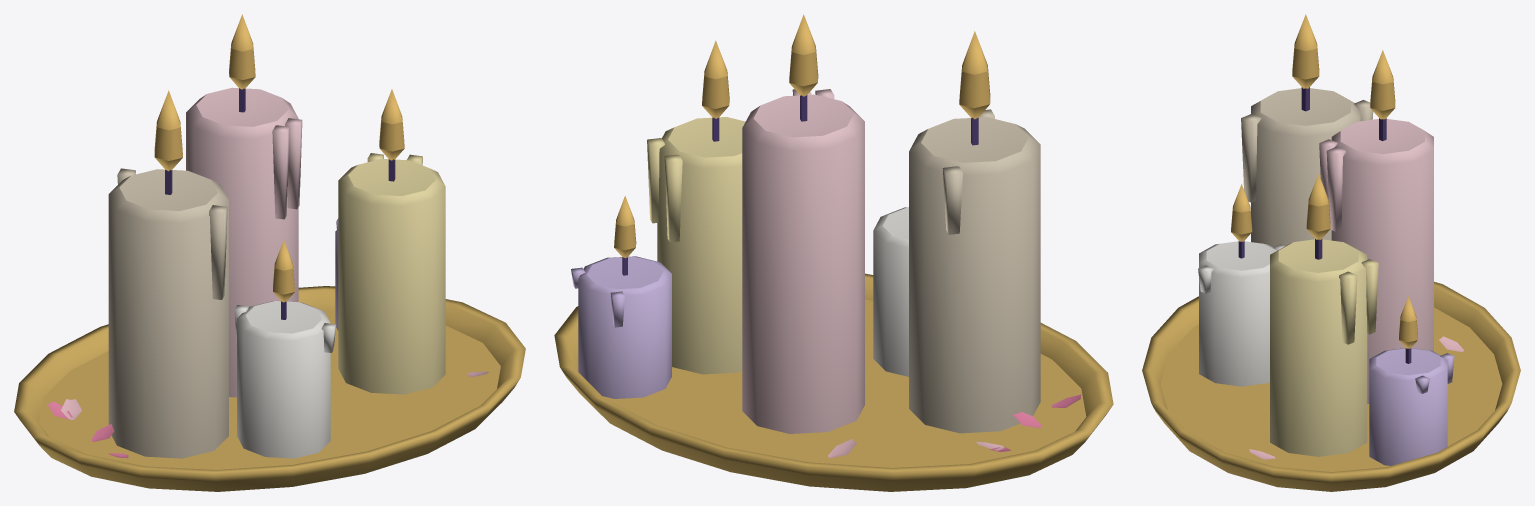
The model's file is candle_cluster.glb.
3 views of the same model, side by side, from view 1: azimuth 30°, elevation 25°; view 2: azimuth 150°, elevation 25°; view 3: azimuth 270°, elevation 25° (orthographic). The views are drawn at different scales.
Parts seen in each view (by area): view 1: candle_cluster; view 2: candle_cluster; view 3: candle_cluster.
Boxes of the visible parts, x1=… form: candle_cluster: x1=14, y1=14, x2=525, y2=491; candle_cluster: x1=554, y1=14, x2=1113, y2=491; candle_cluster: x1=1142, y1=14, x2=1520, y2=491.
Size of what is drawn, in the model's own units: 0.4 by 0.3 by 0.3.
